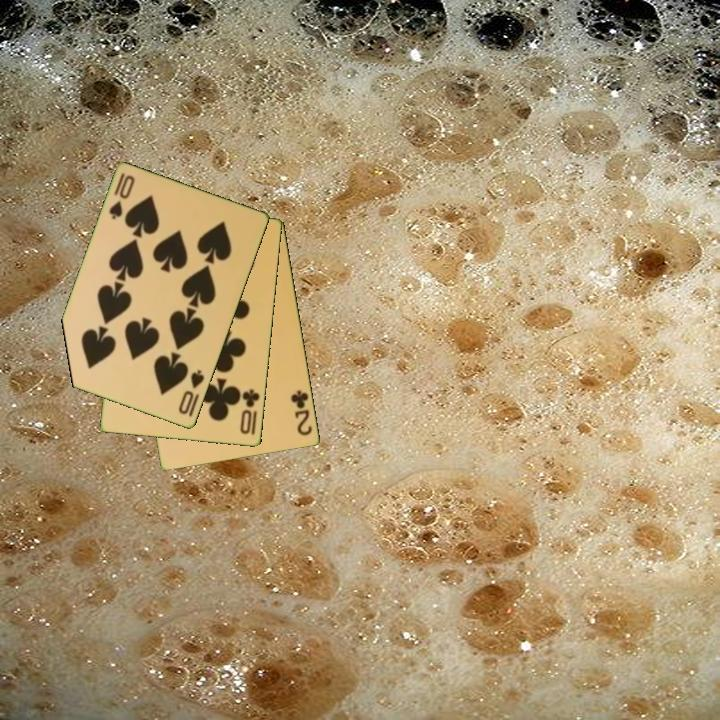10c: (237, 386, 263, 437)
10s: (106, 169, 138, 223), (175, 366, 208, 418)
2c: (287, 387, 315, 439)
